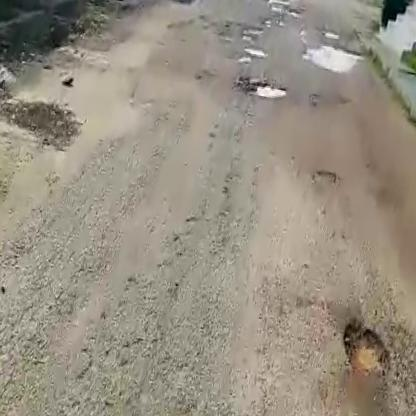pothole: (341, 316, 394, 376), (302, 36, 361, 74), (240, 72, 292, 102), (243, 48, 268, 64)
